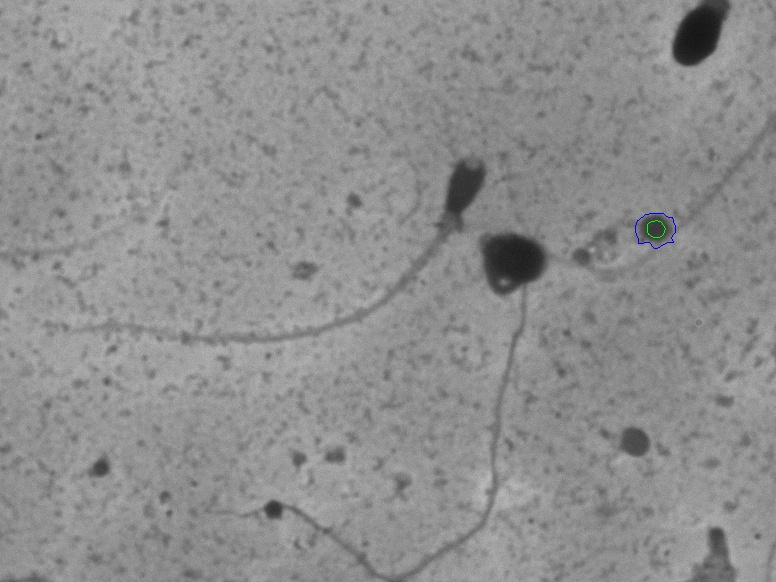Abnormal: (22, 143, 497, 348), (469, 211, 582, 309)
